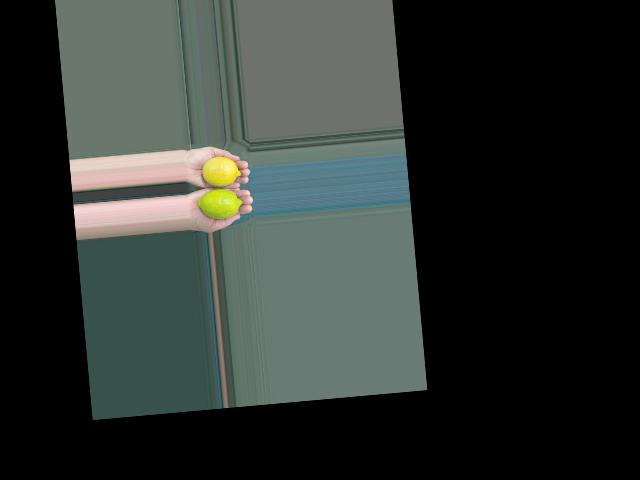lemon: (199, 155, 241, 188)
